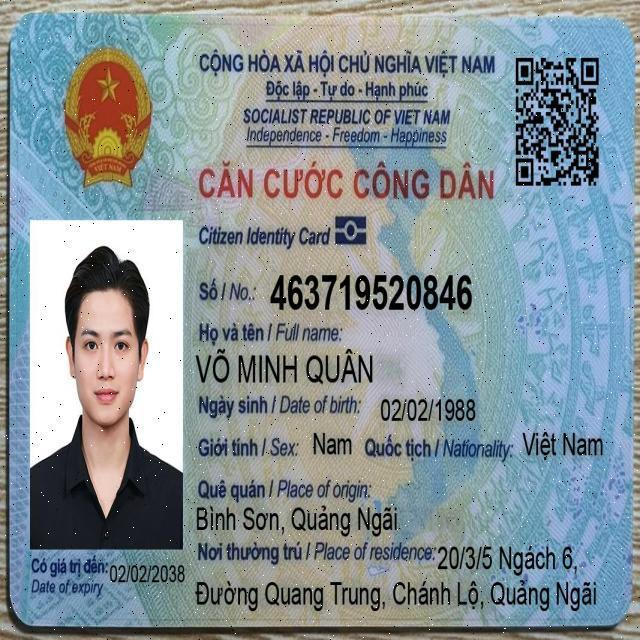current_place: (191, 575, 599, 615), (435, 538, 581, 578)
dob: (377, 393, 478, 429)
expire_date: (107, 560, 188, 590)
gender: (310, 425, 356, 462)
id: (265, 267, 476, 317)
name: (192, 343, 378, 391)
nationality: (520, 425, 606, 464)
origin_place: (191, 501, 400, 541)
